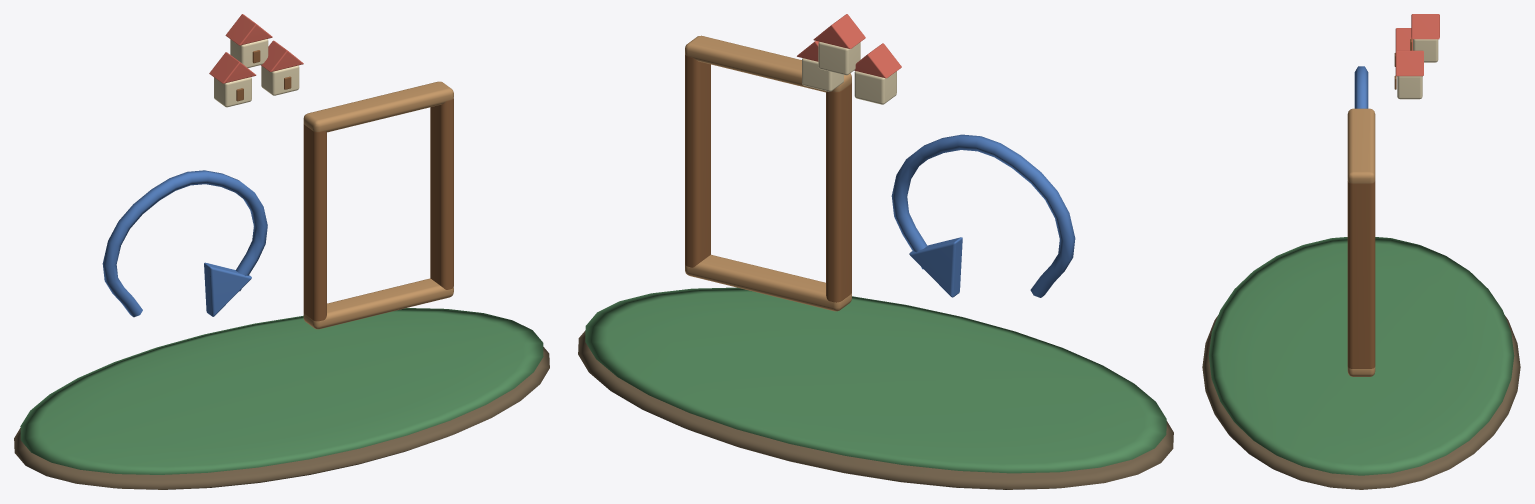
File: complete-third-around-enclosure.glb
The picture shows the model from 3 angles, left to right: view 1: azimuth 30°, elevation 25°; view 2: azimuth 150°, elevation 25°; view 3: azimuth 270°, elevation 25°; orthographic projection. The views are drawn at different scales.
Parts seen in each view (by area): view 1: complete-third-around-enclosure_surface_01, complete-third-around-enclosure_surface_03, complete-third-around-enclosure_surface_00, complete-third-around-enclosure_surface_04, complete-third-around-enclosure_surface_02, complete-third-around-enclosure_surface_05, complete-third-around-enclosure_surface_06; view 2: complete-third-around-enclosure_surface_01, complete-third-around-enclosure_surface_00, complete-third-around-enclosure_surface_03, complete-third-around-enclosure_surface_02, complete-third-around-enclosure_surface_04, complete-third-around-enclosure_surface_05, complete-third-around-enclosure_surface_06; view 3: complete-third-around-enclosure_surface_01, complete-third-around-enclosure_surface_00, complete-third-around-enclosure_surface_03, complete-third-around-enclosure_surface_04, complete-third-around-enclosure_surface_06, complete-third-around-enclosure_surface_05, complete-third-around-enclosure_surface_02.
Part boxes in pixels (box(x1,y1,x2,y2)): complete-third-around-enclosure_surface_01: box(20, 308, 543, 474); complete-third-around-enclosure_surface_03: box(236, 50, 453, 321); complete-third-around-enclosure_surface_00: box(14, 347, 549, 489); complete-third-around-enclosure_surface_04: box(303, 81, 453, 329); complete-third-around-enclosure_surface_02: box(102, 170, 267, 317); complete-third-around-enclosure_surface_05: box(214, 39, 299, 107); complete-third-around-enclosure_surface_06: box(209, 14, 303, 83); complete-third-around-enclosure_surface_01: box(585, 287, 1166, 473); complete-third-around-enclosure_surface_00: box(578, 331, 1173, 489); complete-third-around-enclosure_surface_03: box(685, 54, 851, 302); complete-third-around-enclosure_surface_02: box(891, 134, 1075, 297); complete-third-around-enclosure_surface_04: box(685, 35, 851, 311); complete-third-around-enclosure_surface_05: box(802, 41, 896, 104); complete-third-around-enclosure_surface_06: box(797, 14, 901, 78); complete-third-around-enclosure_surface_01: box(1208, 237, 1514, 475); complete-third-around-enclosure_surface_00: box(1202, 315, 1520, 489); complete-third-around-enclosure_surface_03: box(1347, 38, 1412, 368); complete-third-around-enclosure_surface_04: box(1347, 108, 1375, 376); complete-third-around-enclosure_surface_06: box(1395, 14, 1439, 76); complete-third-around-enclosure_surface_05: box(1397, 39, 1438, 99); complete-third-around-enclosure_surface_02: box(1354, 66, 1368, 108).
Bounding box in the file's own units: 4.56 × 3.19 × 2.5.
